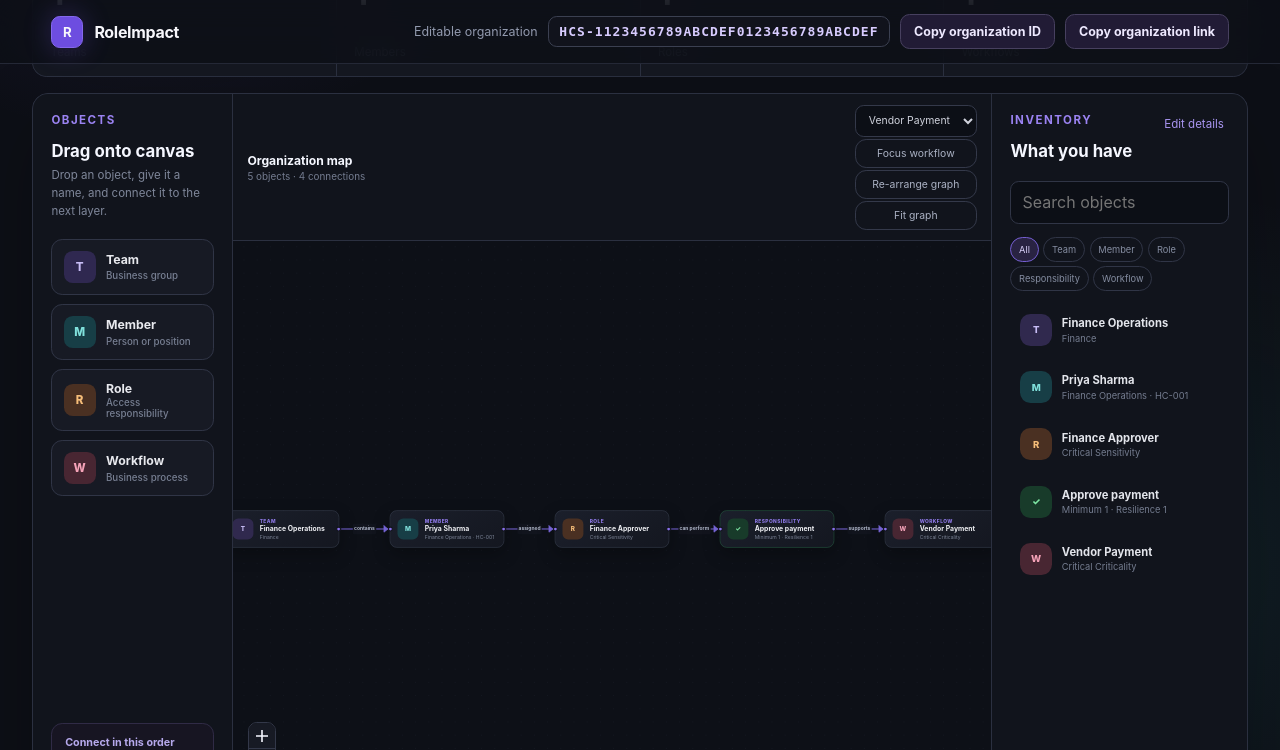
Test: App › preselects current holders before reusing a map role
This screenshot has width=1280, height=750.
(page scrolled)
Click the button with aria-label "Add Role" at x=132, y=400, box x1=51 y1=369 x2=214 y2=431
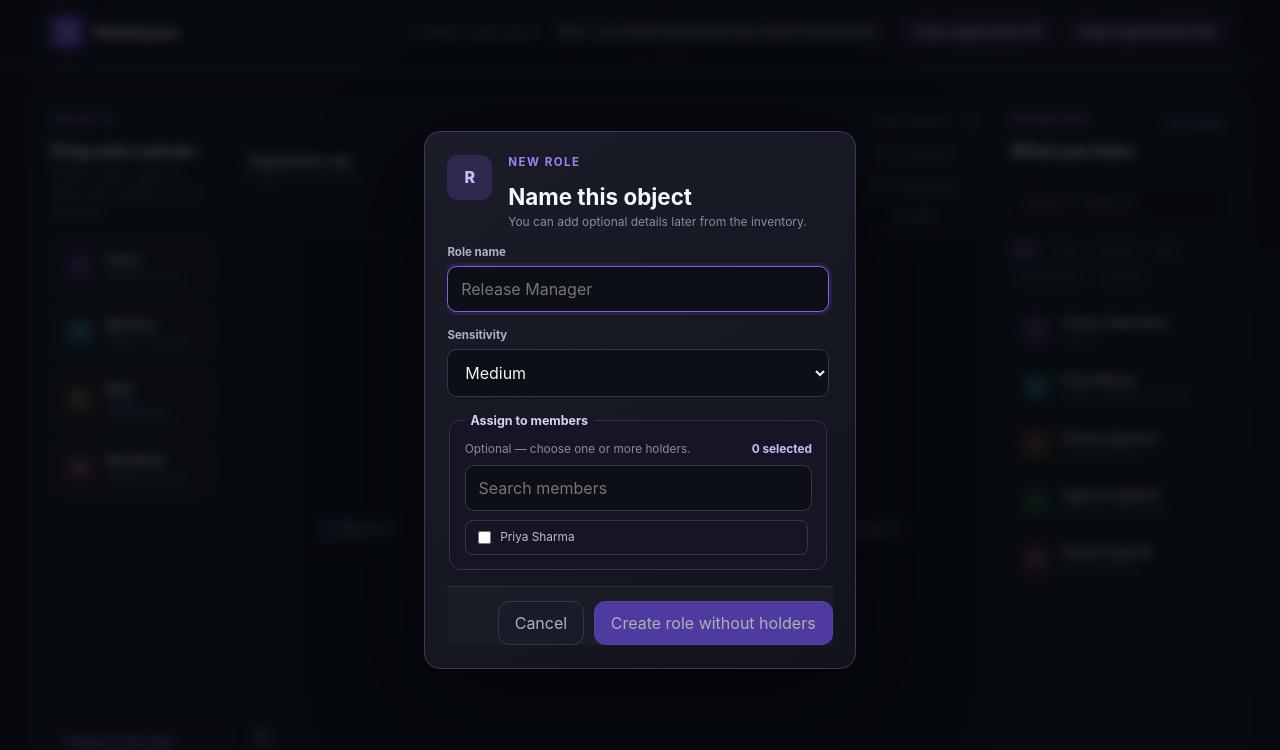
Type "Finance Approver" into the field labelled "Role name" at x=638, y=289, box x1=447 y1=266 x2=829 y2=312
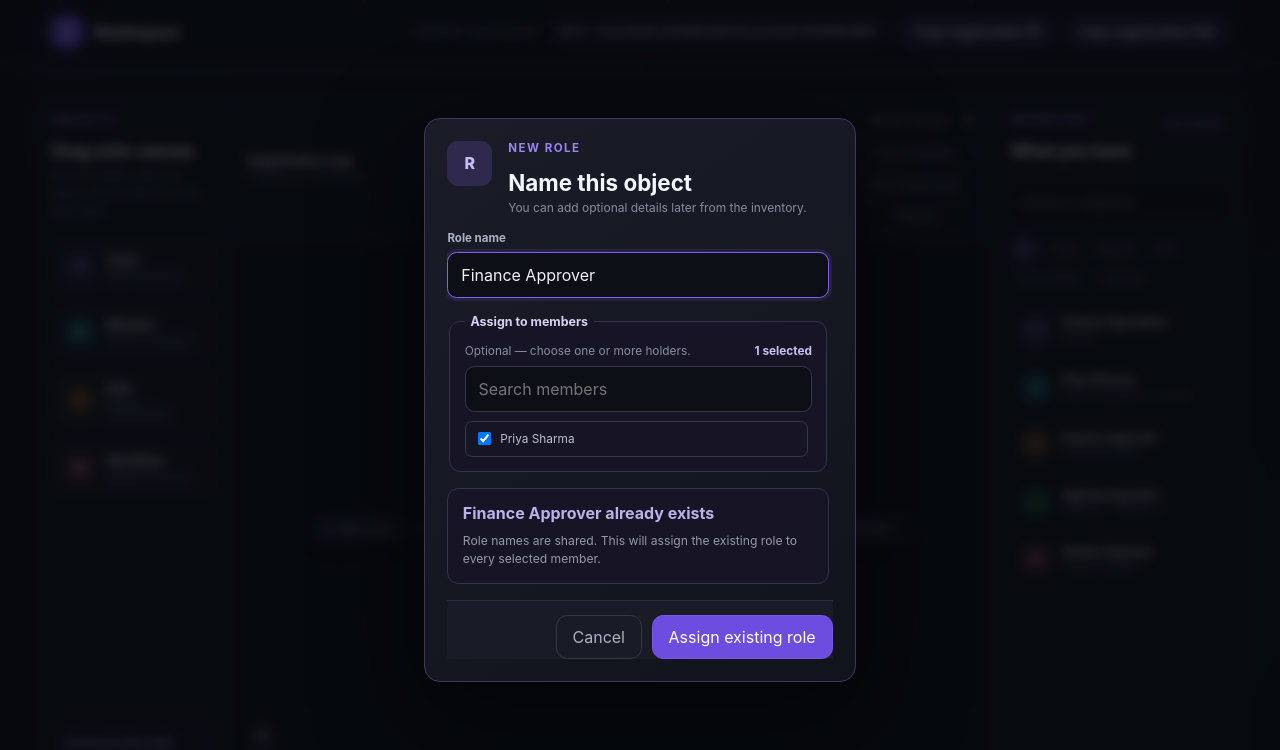
Result: the checkbox labelled "Priya Sharma" is checked at x1=478 y1=432 x2=491 y2=445
